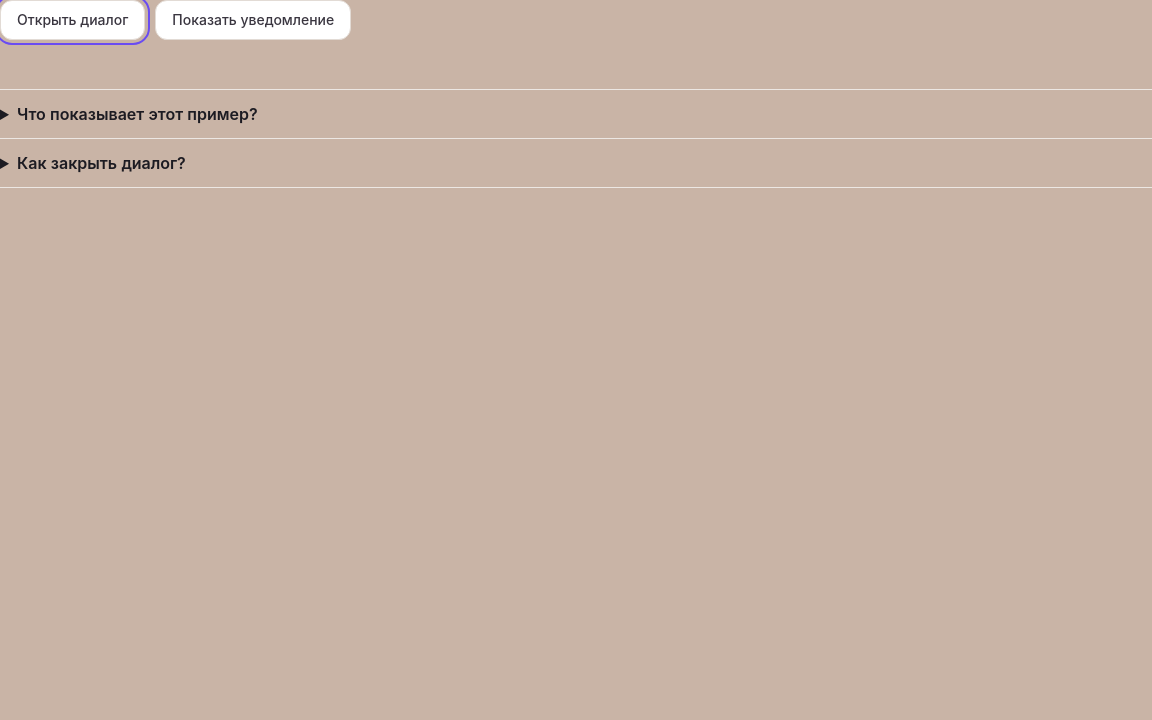
Test: saves locally and restores focus when the dialog closes
Click the button "Открыть диалог": click(73, 20) [0,0,145,40]
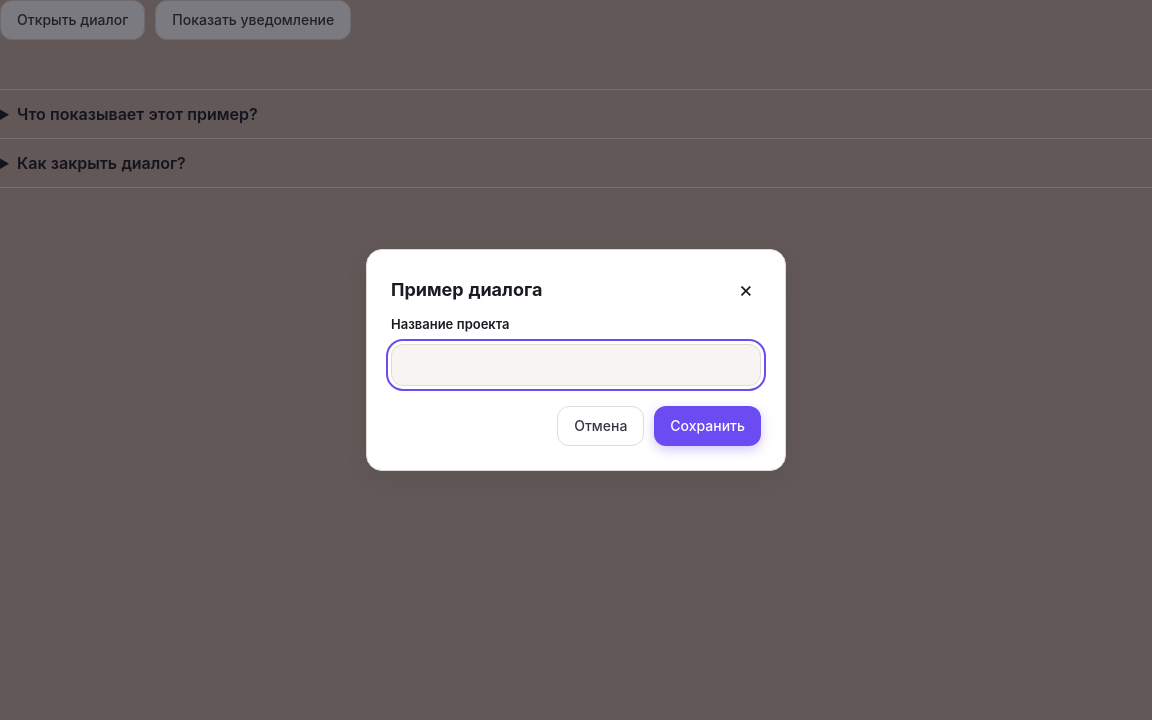
Submit the form, box [391,274,761,446]
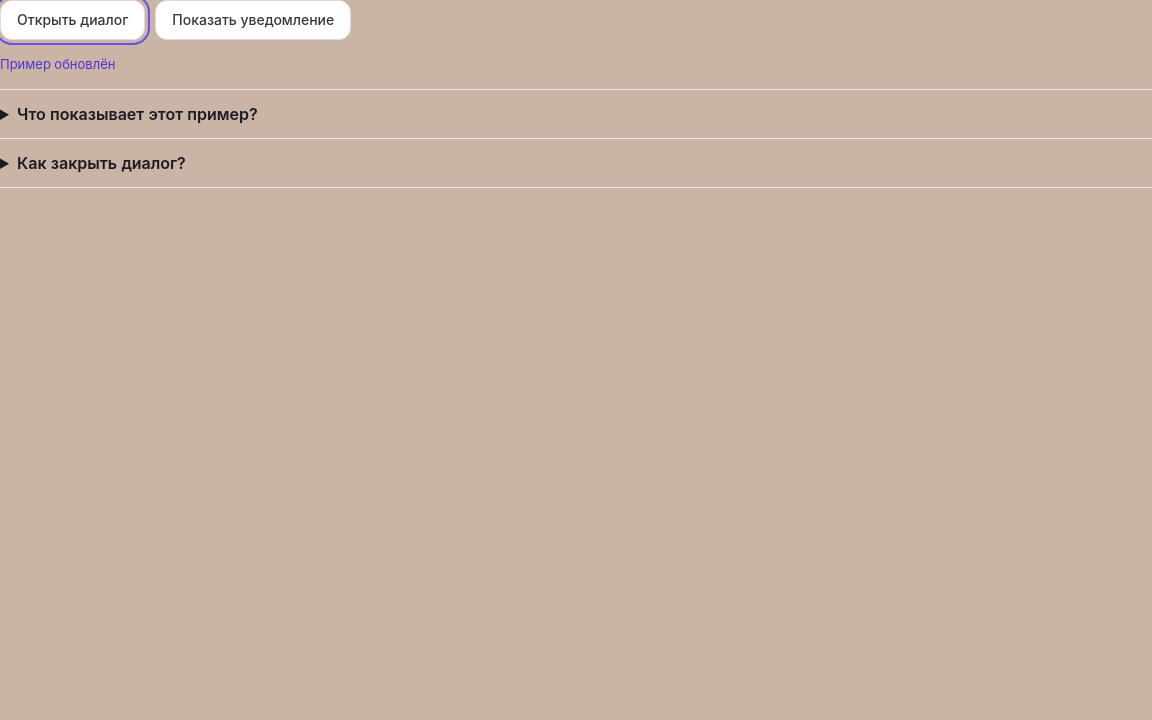
Result: the text "Пример обновлён" is shown at [0,56,115,72]
